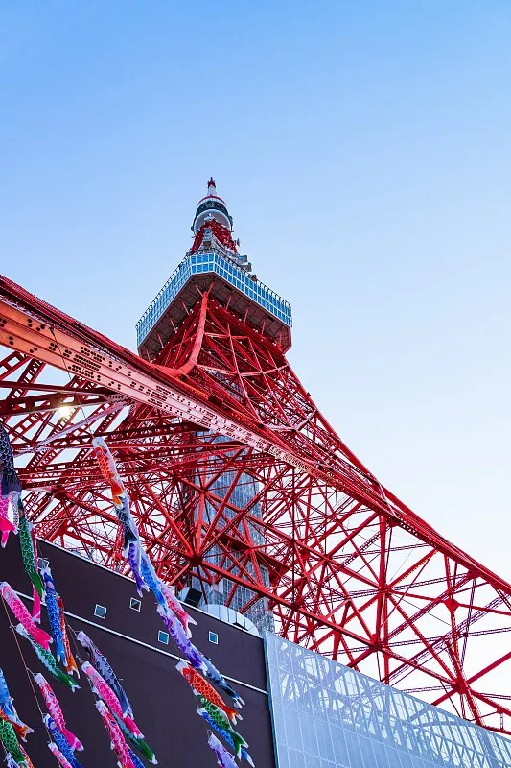Tokyo: (10, 167, 508, 740)
